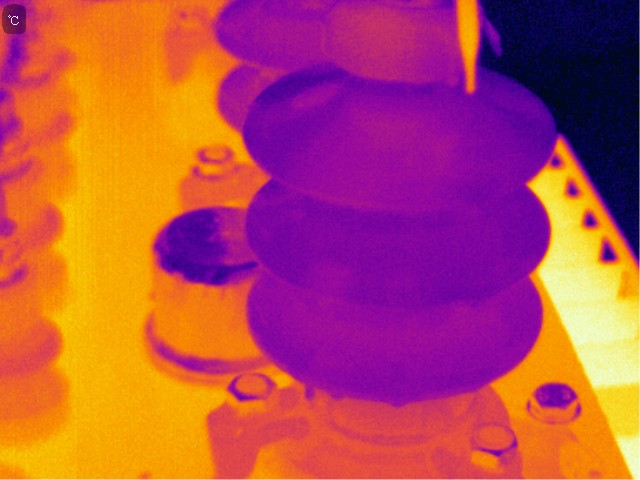Oil: (329, 1, 452, 81), (351, 99, 457, 161), (450, 1, 503, 99), (294, 81, 344, 108), (302, 379, 318, 403), (328, 389, 345, 402), (388, 399, 406, 408)
